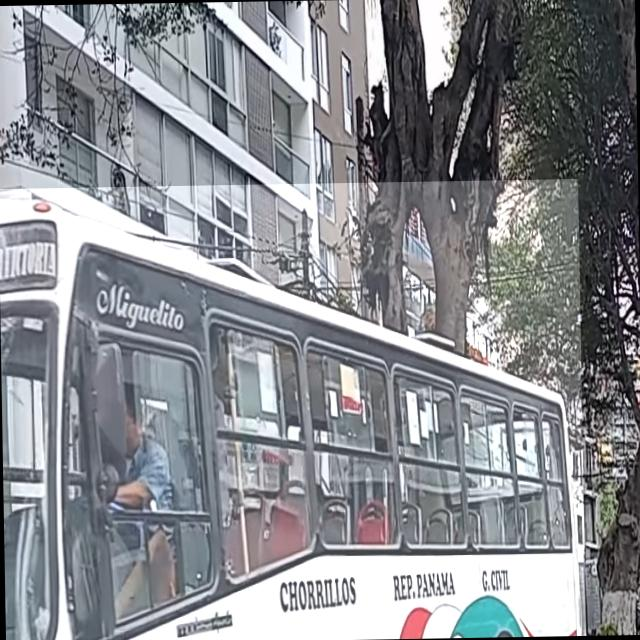bus: (0, 178, 585, 640)
